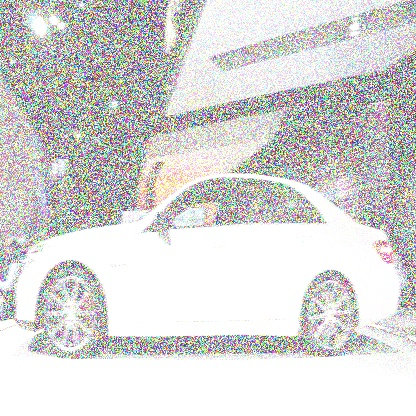Vehicle: (11, 169, 402, 360)
